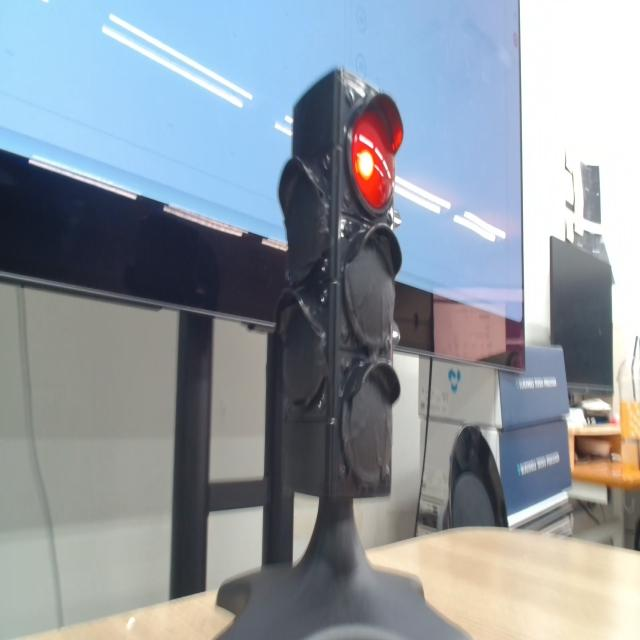red_light: (351, 110, 394, 212)
